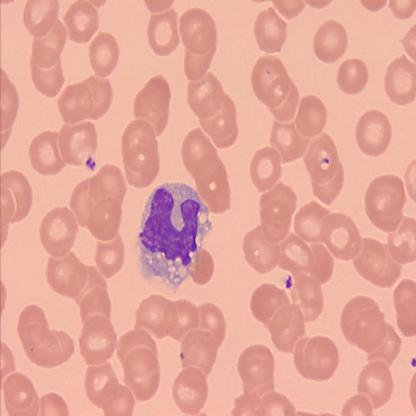Monocyte: (133, 179, 214, 296)
